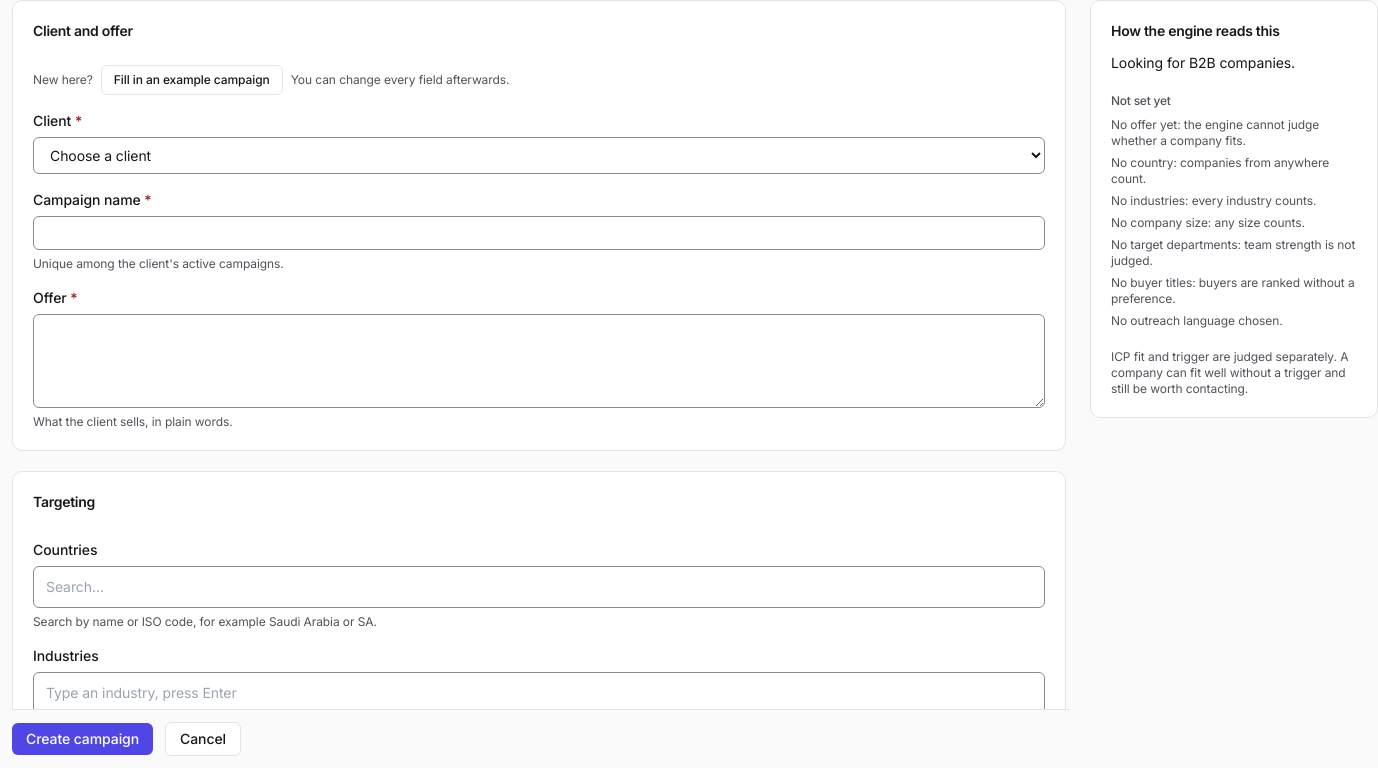
CampaignForm (create) › shows other API failures without losing input
Select "SkyLight" in the dropdown labelled "Client *" at (539, 156), box x1=33 y1=137 x2=1045 y2=174
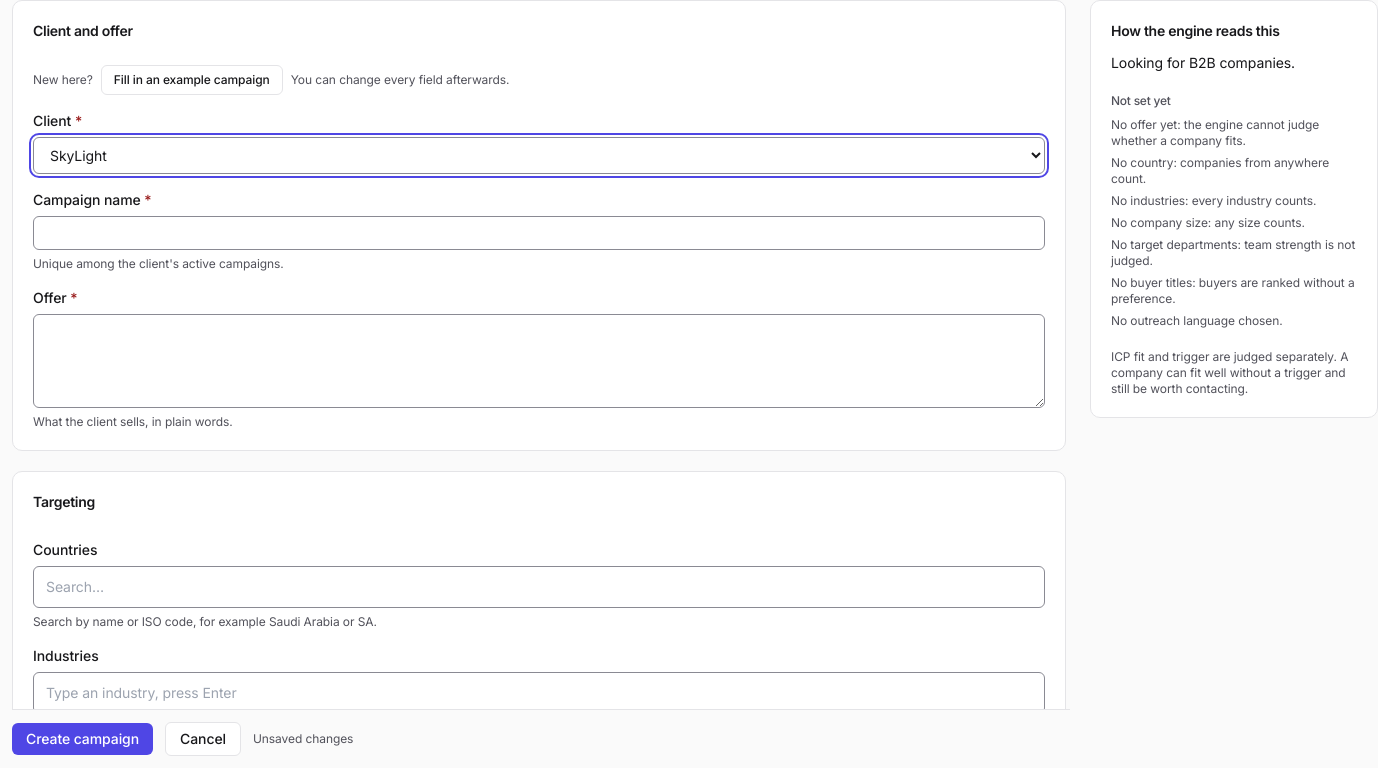
Type "N" into the field labelled "Campaign name *".
click(539, 233); type("N")  # box x1=33 y1=216 x2=1045 y2=250
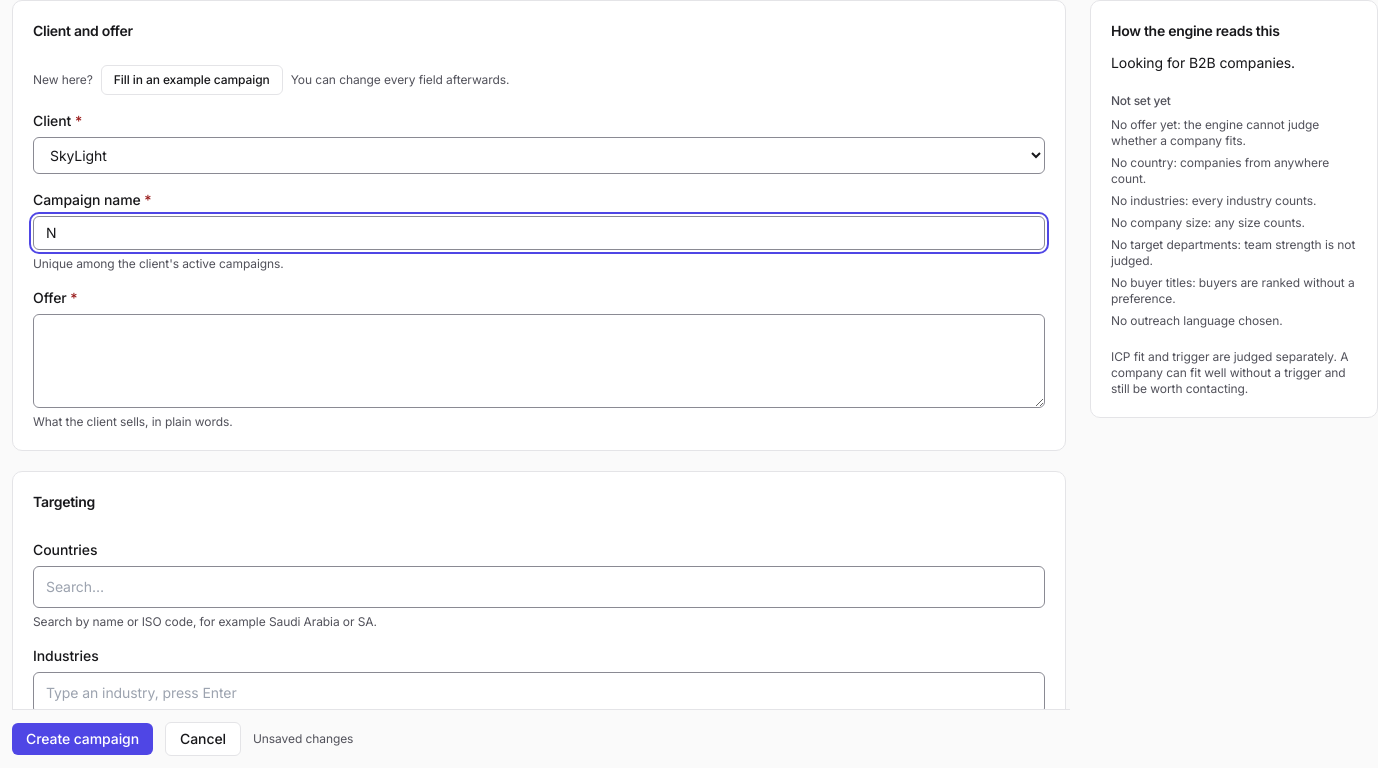
Type "O" into the text box labelled "Offer *".
click(539, 361); type("O")  # box x1=33 y1=314 x2=1045 y2=408
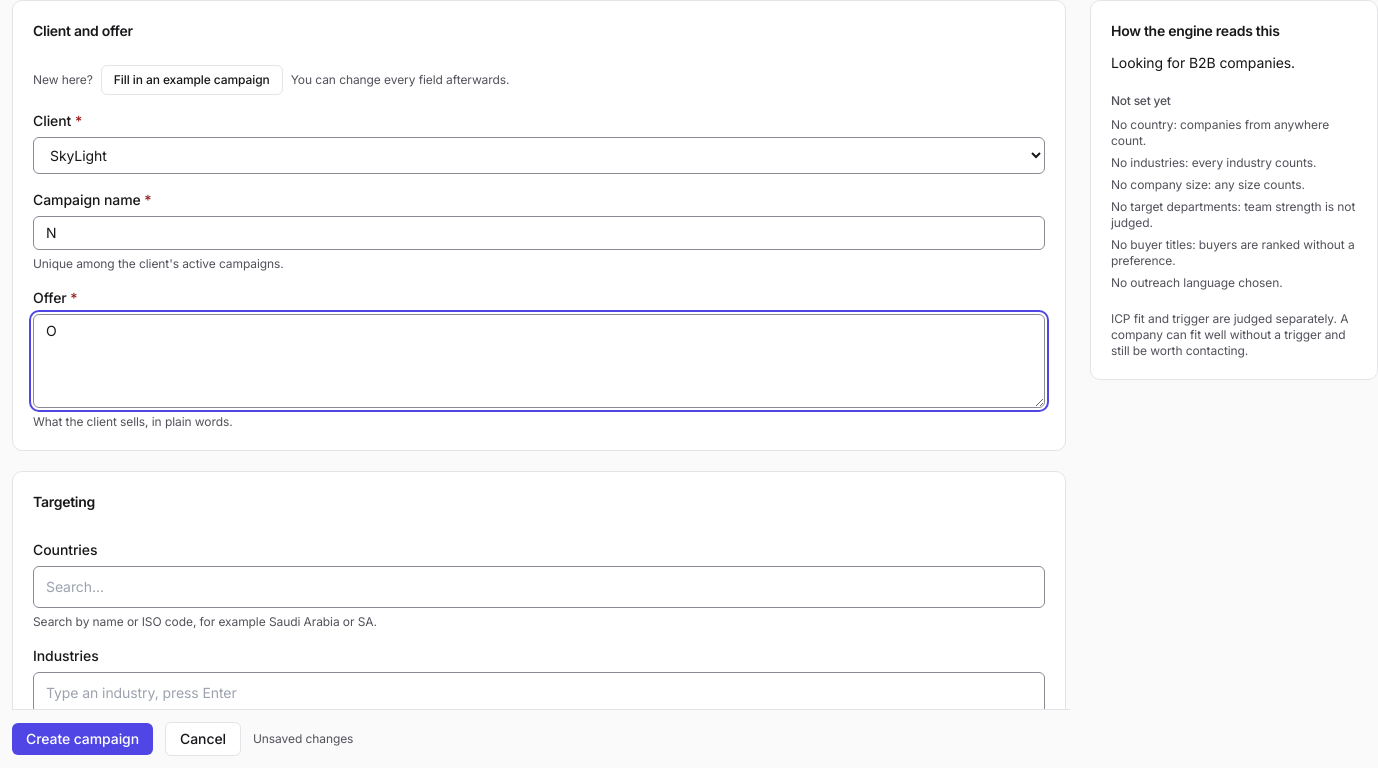
Click the button "Create campaign".
click(82, 739)  # box x1=12 y1=723 x2=153 y2=755
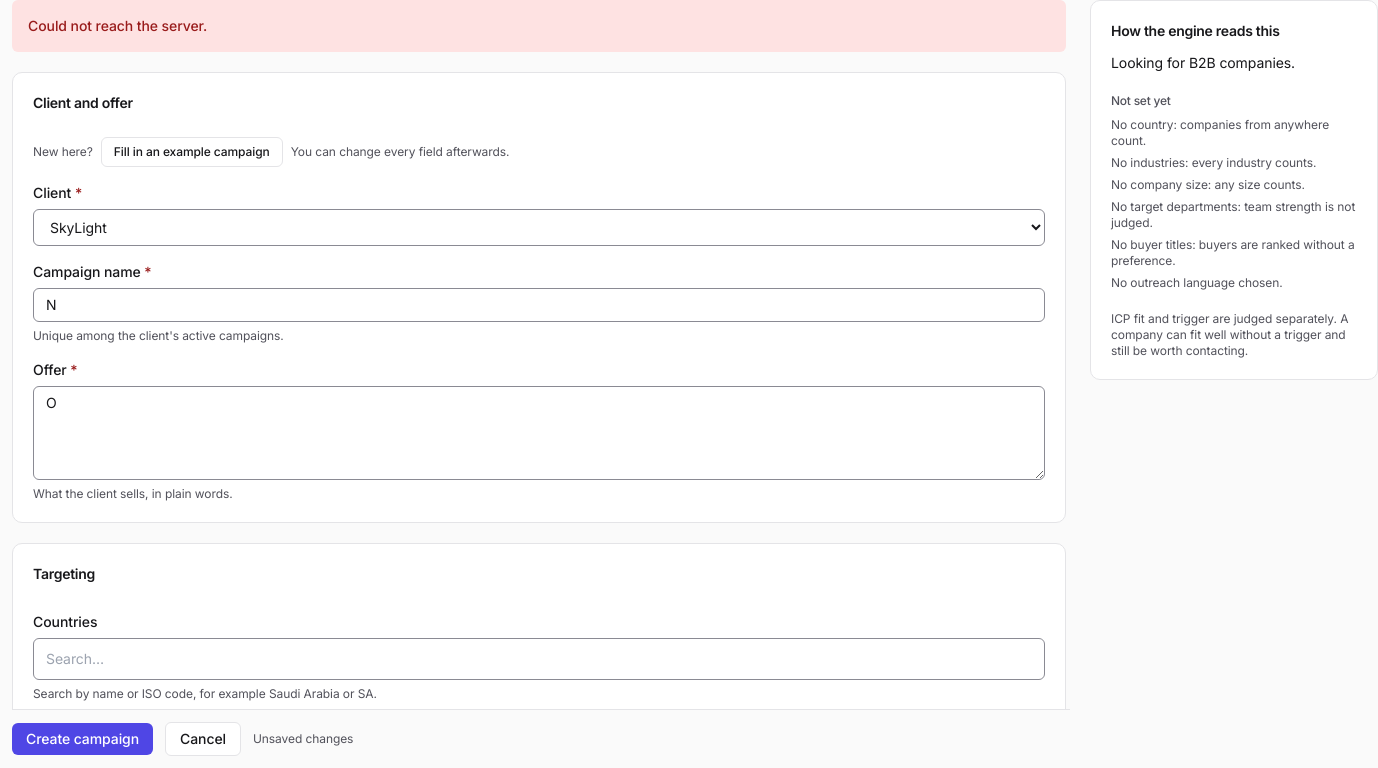
Result: the text "Could not reach the server." is shown at x1=12 y1=0 x2=1066 y2=52
